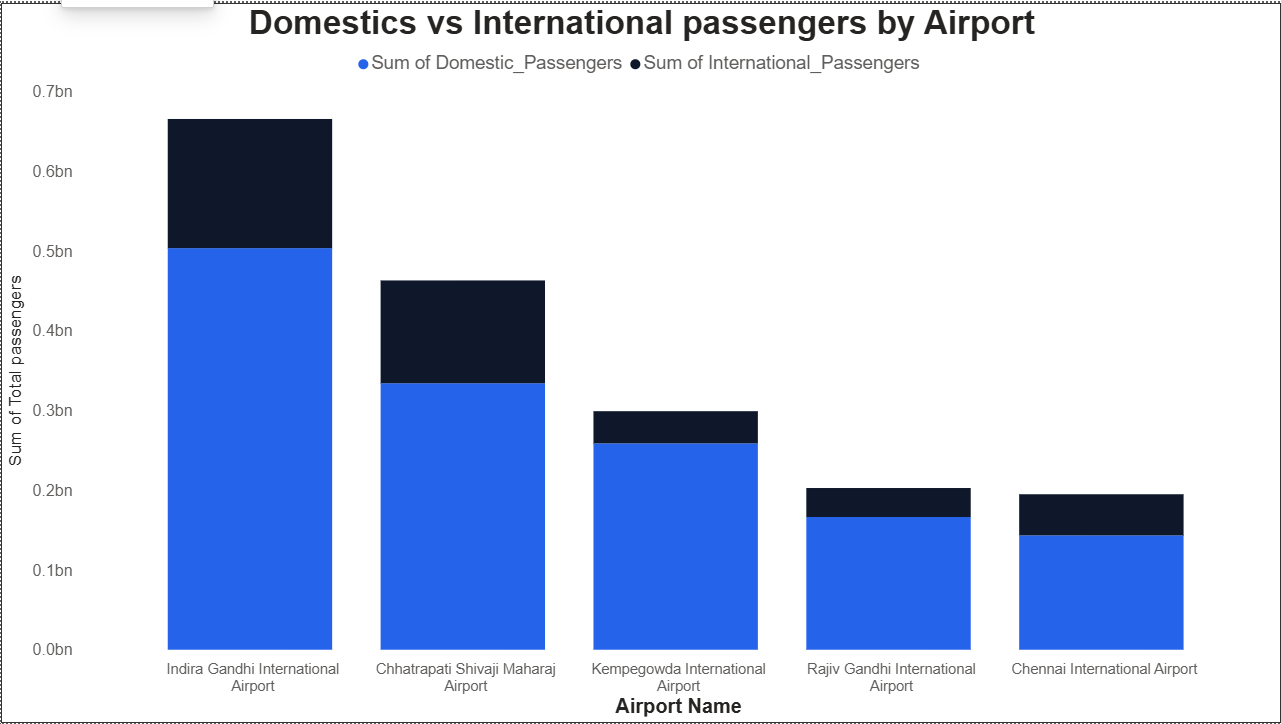

This screenshot's page, from the dashboard's own definition file:
{"tool":"powerbi","page":{"name":"Domestics vs international Passengers","canvas":[1280,720],"ordinal":4},"visuals":[{"type":"columnChart","title":"Domestics vs International passengers by Airport","fields":{"Category":["Table1.Airport_Name"],"Y":["Sum(Table1.Domestic_Passengers)","Sum(Table1.International_Passengers)"]},"box":[0,0,1280,720],"z":1000}]}

Visuals, with their boxes in screenshot pixels (x1, y1, x2, y2), scaled from the page's 1280x720 canvas onto the 1281x724 screenshot:
"Domestics vs International passengers by Airport" columnChart: x1=0 y1=0 x2=1280 y2=723
